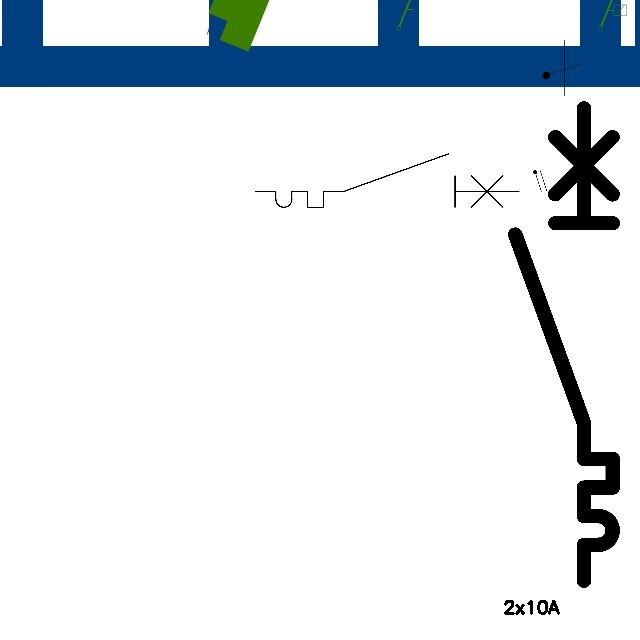interruptor_termomagnetico: (503, 96, 625, 593), (249, 147, 526, 214)
